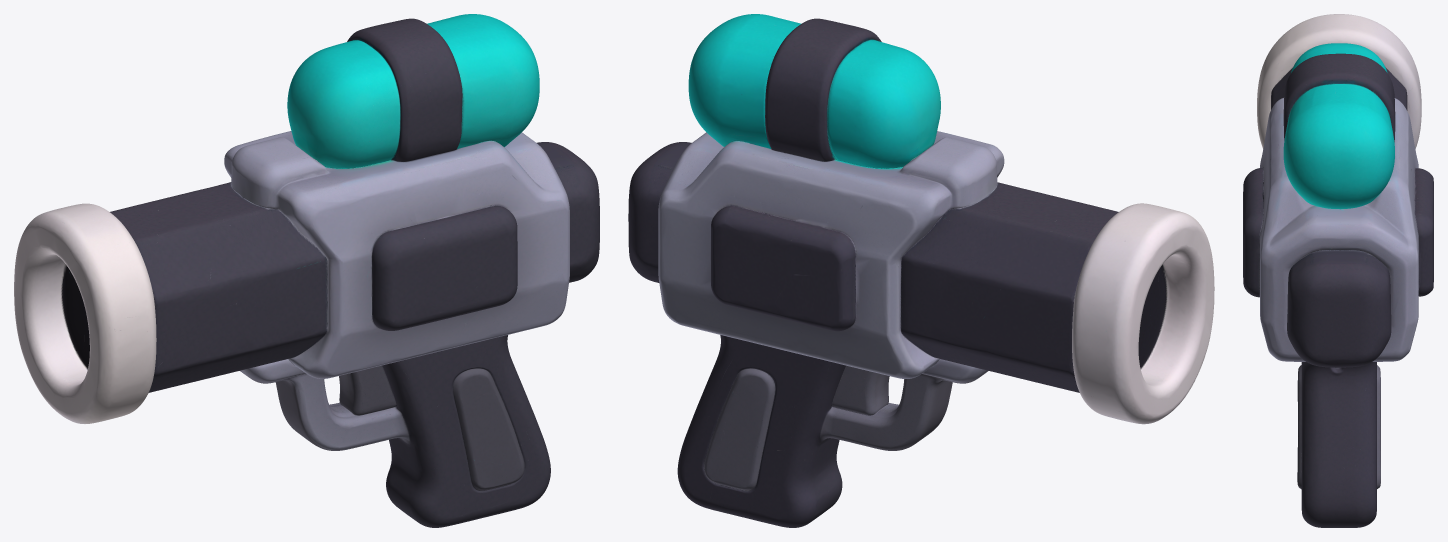
The model's file is kalle_waffe_original.glb.
The picture shows the model from 3 angles, left to right: view 1: azimuth 30°, elevation 25°; view 2: azimuth 150°, elevation 25°; view 3: azimuth 270°, elevation 25°; orthographic projection. The views are drawn at different scales.
Bounding box in the file's own units: 1.9 × 1.7 × 0.7004.
Materials: 1 (1 with a texture image).
